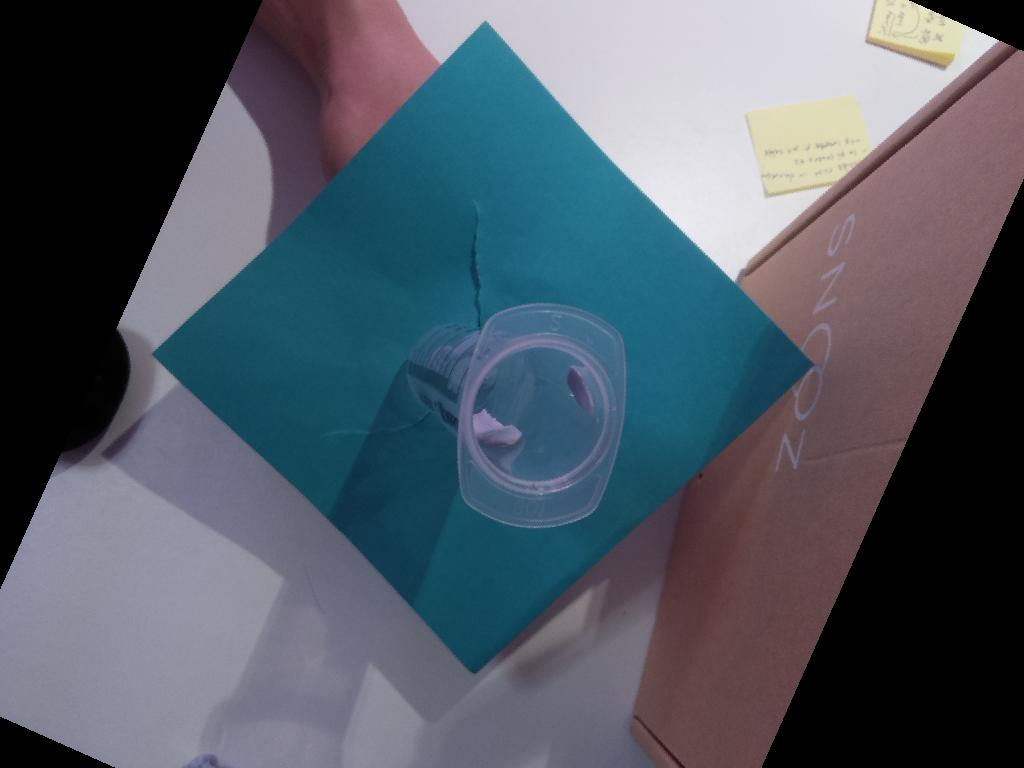dirty: (457, 303, 626, 529)
